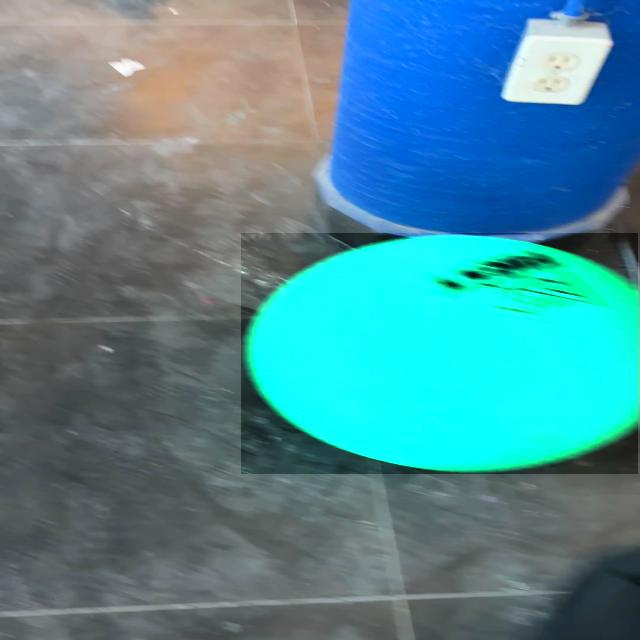Algae: (241, 233, 638, 474)
